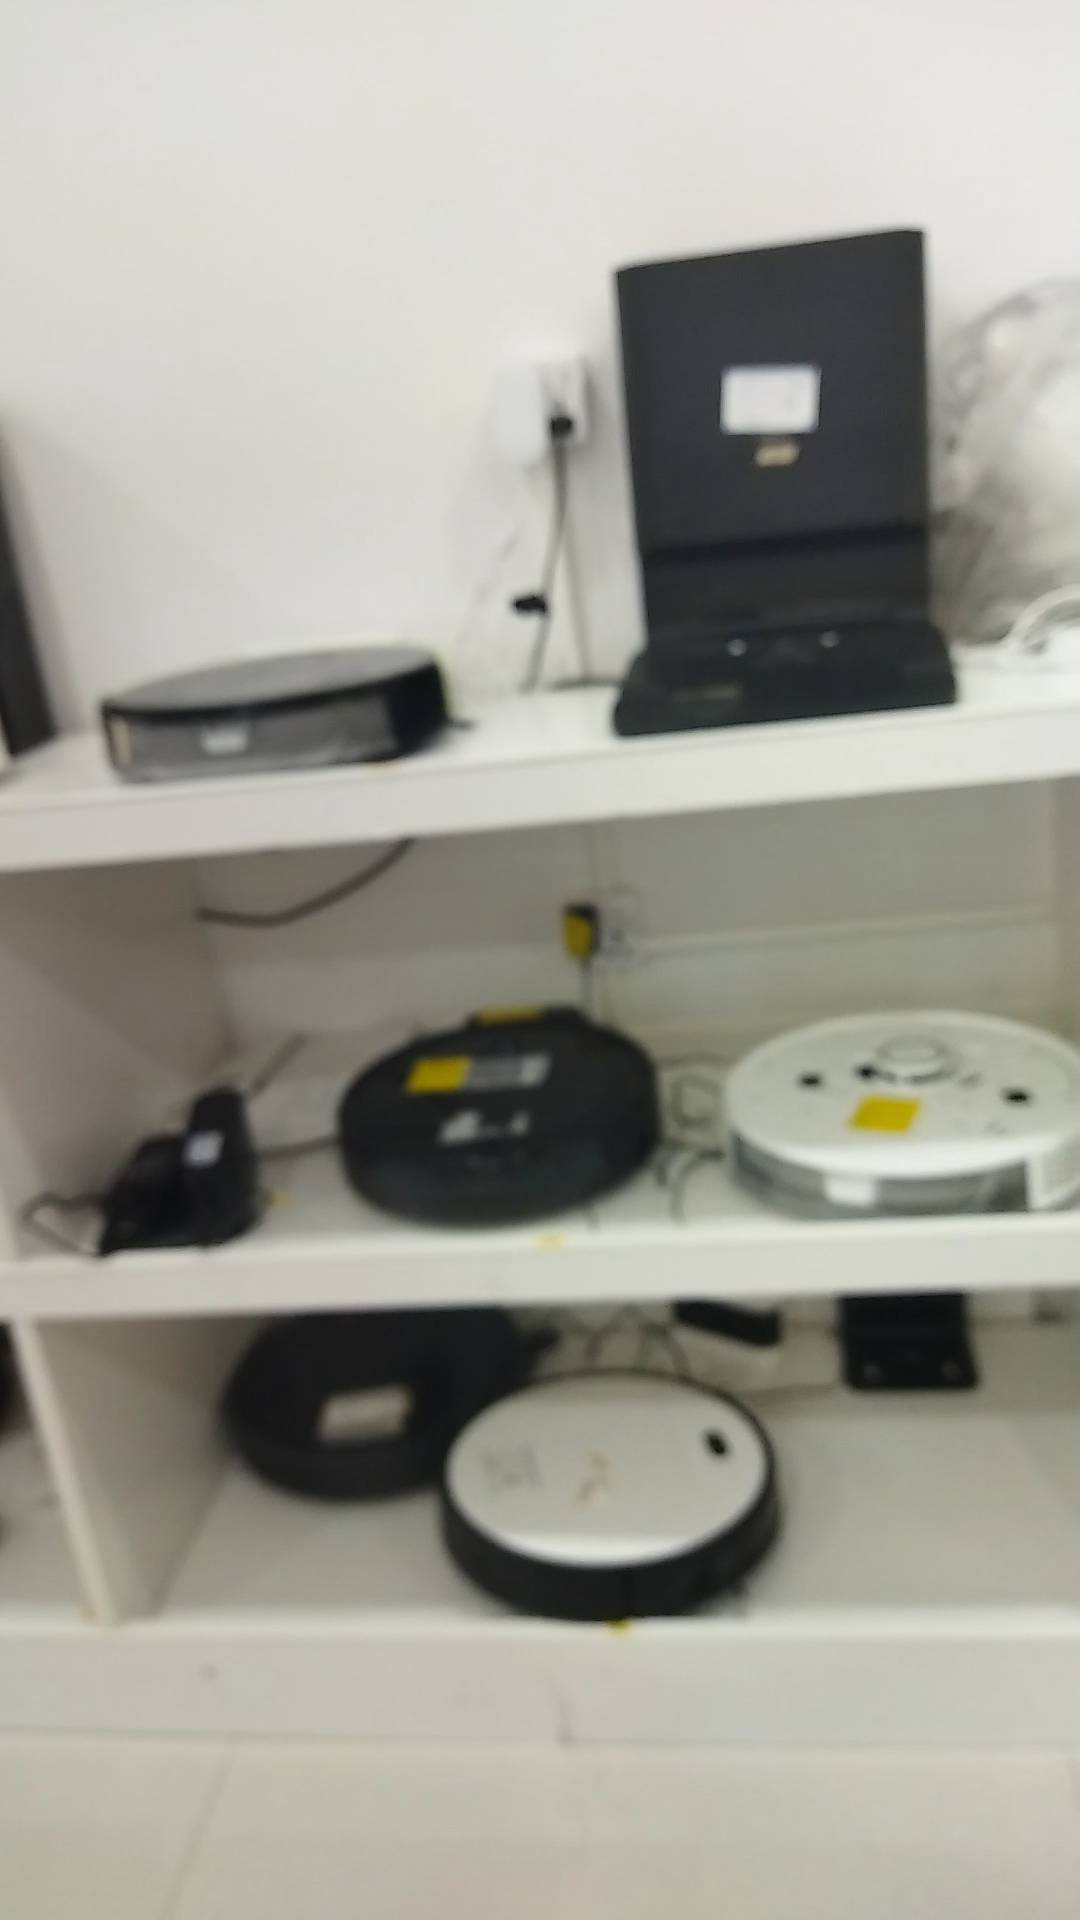dust collecting barrel: (611, 227, 961, 745)
recharge seat: (98, 1087, 261, 1255), (832, 1288, 986, 1396), (651, 1299, 789, 1406)
